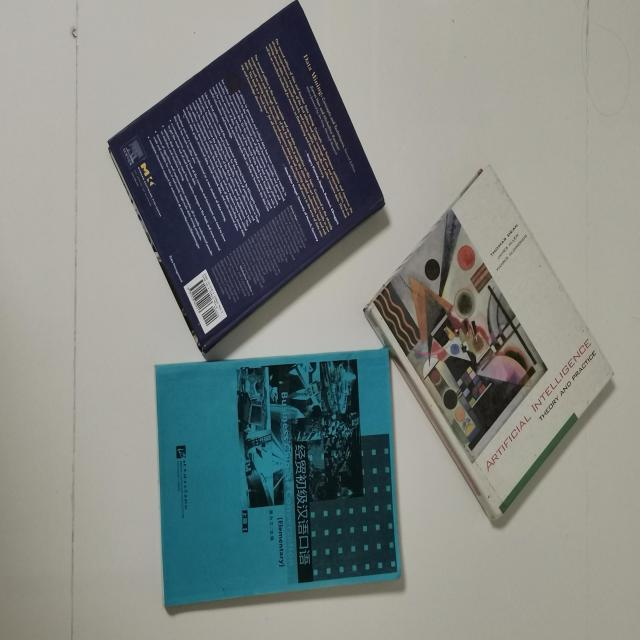Book: (91, 0, 388, 370), (358, 165, 620, 540), (137, 354, 419, 615)
